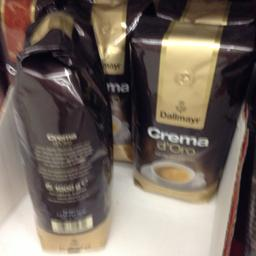coffee: (9, 7, 112, 255), (128, 14, 254, 202)
